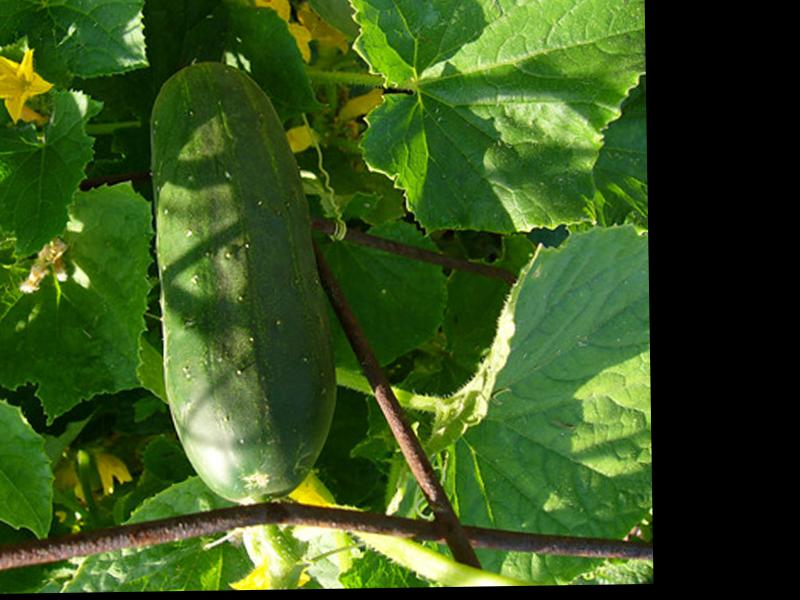Cucumber: (148, 58, 342, 504)
